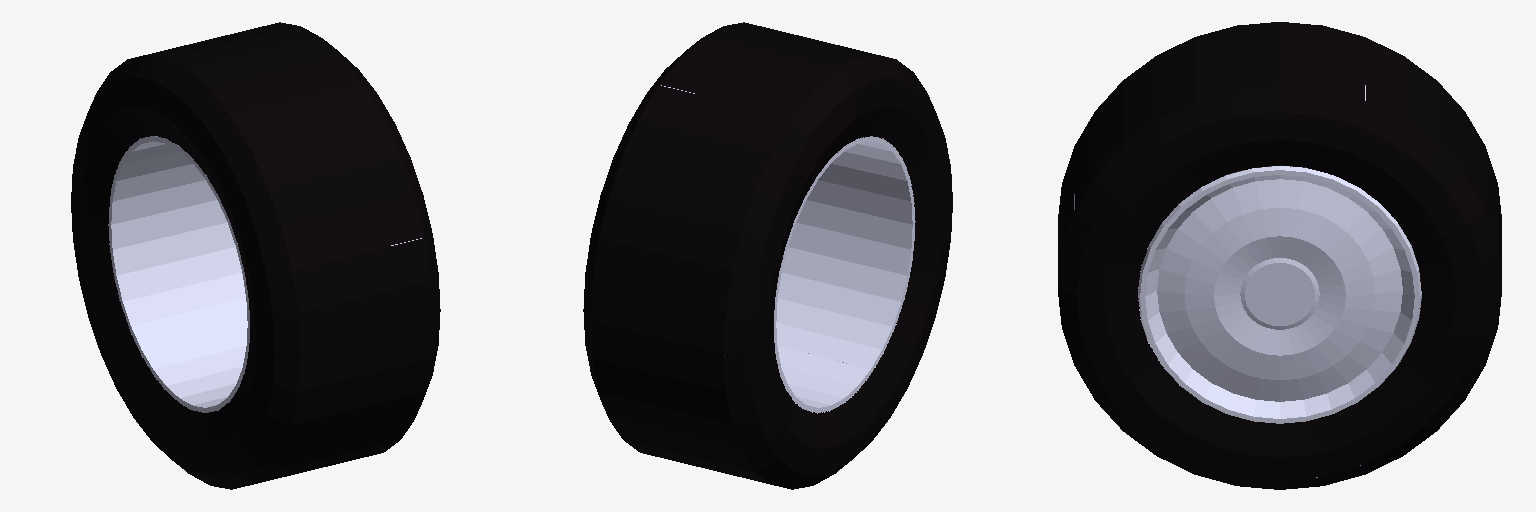
3 views of the same model, side by side, from view 1: azimuth 30°, elevation 25°; view 2: azimuth 150°, elevation 25°; view 3: azimuth 270°, elevation 25° (orthographic).
Visible parts, largest first — view 1: Cylinder.001; view 2: Cylinder.001; view 3: Cylinder.001.
Boxes of the visible parts, x1,y1,x2,y2 form: Cylinder.001: [71, 22, 440, 489]; Cylinder.001: [583, 22, 952, 489]; Cylinder.001: [1058, 22, 1501, 489].
Bounding box in the file's own units: 0.7249 × 1.6 × 1.6.
1 materials, 1 textured.